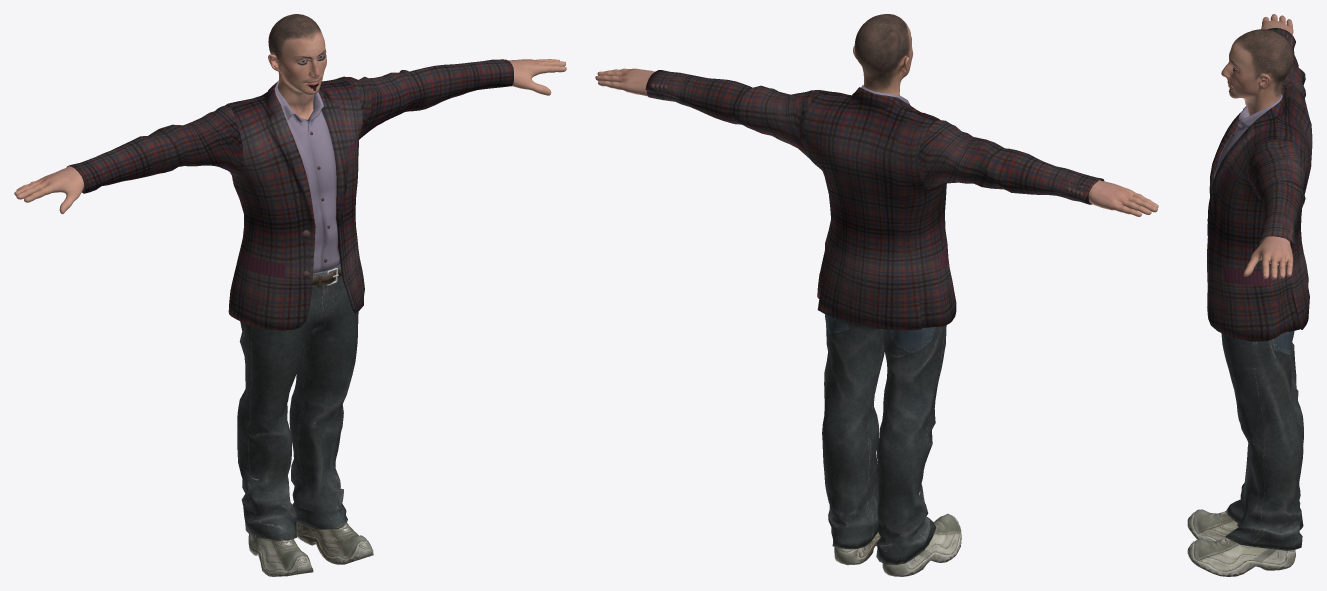
Rendered from JonDoe.obj.
3 views of the same model, side by side, from view 1: azimuth 30°, elevation 25°; view 2: azimuth 150°, elevation 25°; view 3: azimuth 270°, elevation 25° (orthographic). The views are drawn at different scales.
Parts seen in each view (by area): view 1: Tops Mesh, Bottoms Mesh, Body Mesh, Shoes Mesh; view 2: Tops Mesh, Bottoms Mesh, Body Mesh, Shoes Mesh; view 3: Tops Mesh, Bottoms Mesh, Body Mesh, Shoes Mesh.
Boxes of the visible parts, left/top/right/bottom form: Tops Mesh: left=67, top=59, right=513, bottom=330; Bottoms Mesh: left=237, top=264, right=358, bottom=540; Body Mesh: left=14, top=14, right=566, bottom=214; Shoes Mesh: left=248, top=478, right=373, bottom=576; Tops Mesh: left=645, top=70, right=1104, bottom=330; Bottoms Mesh: left=822, top=314, right=946, bottom=564; Body Mesh: left=595, top=14, right=1158, bottom=216; Shoes Mesh: left=834, top=491, right=961, bottom=576; Tops Mesh: left=1207, top=28, right=1312, bottom=341; Bottoms Mesh: left=1221, top=331, right=1303, bottom=550; Body Mesh: left=1221, top=14, right=1293, bottom=279; Shoes Mesh: left=1187, top=509, right=1295, bottom=576.
Bounding box in the file's own units: 2.76 × 2.56 × 0.5553.
